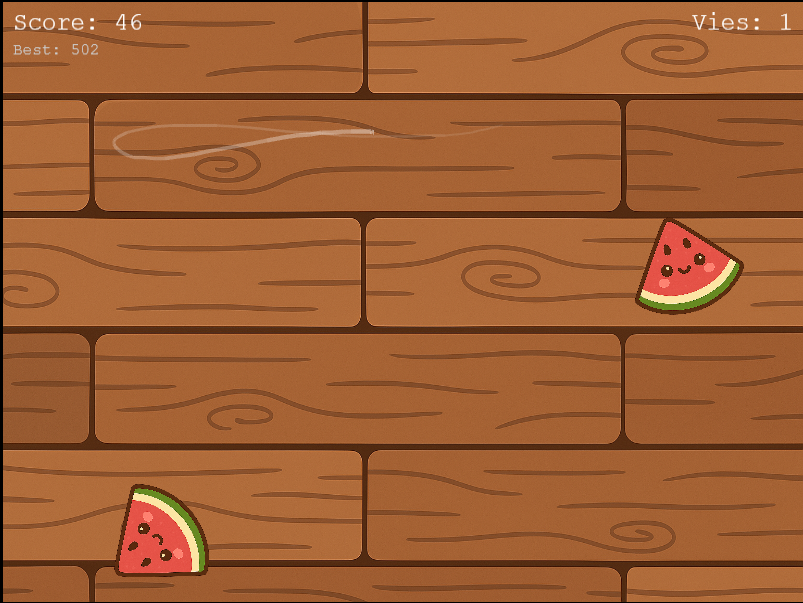fruit: (629, 213, 747, 316), (108, 477, 215, 578)
